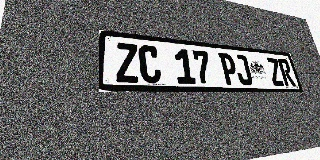1: (173, 48, 196, 84)
7: (191, 50, 213, 84)
C: (138, 45, 162, 83)
J: (233, 54, 253, 85)
P: (218, 53, 239, 85)
R: (277, 59, 296, 86)
Z: (115, 42, 140, 83), (266, 57, 285, 86)
